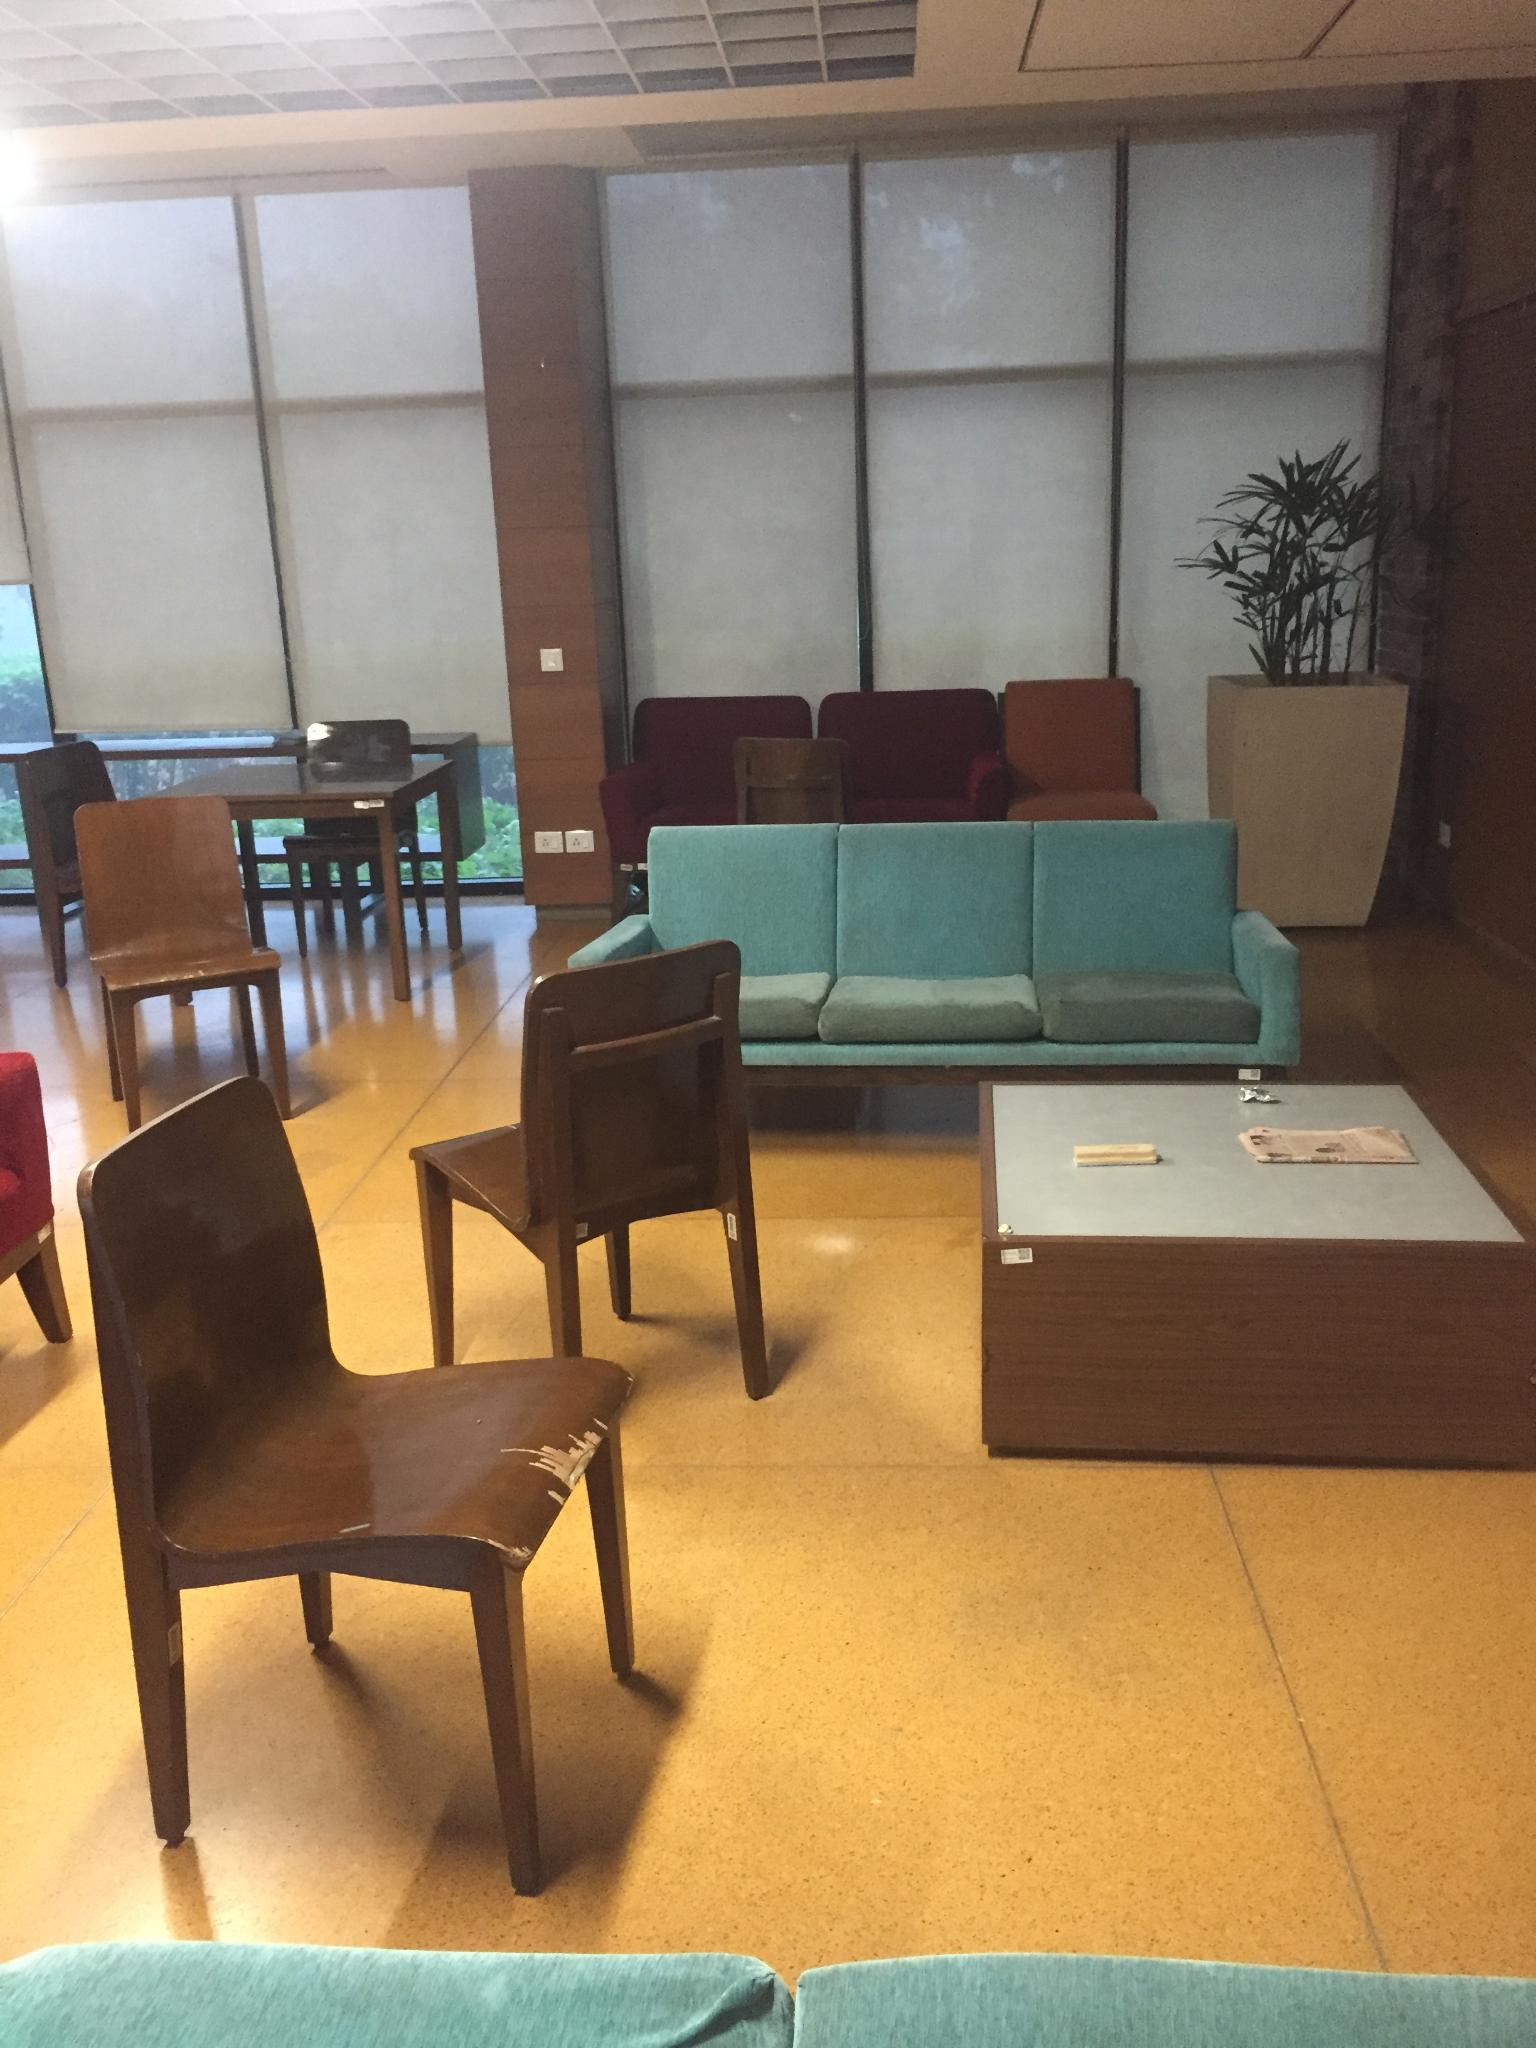chair: (74, 1076, 636, 1895), (408, 937, 771, 1401), (73, 793, 290, 1132), (15, 740, 119, 987), (1000, 677, 1157, 821), (307, 710, 410, 863), (736, 729, 854, 832)
